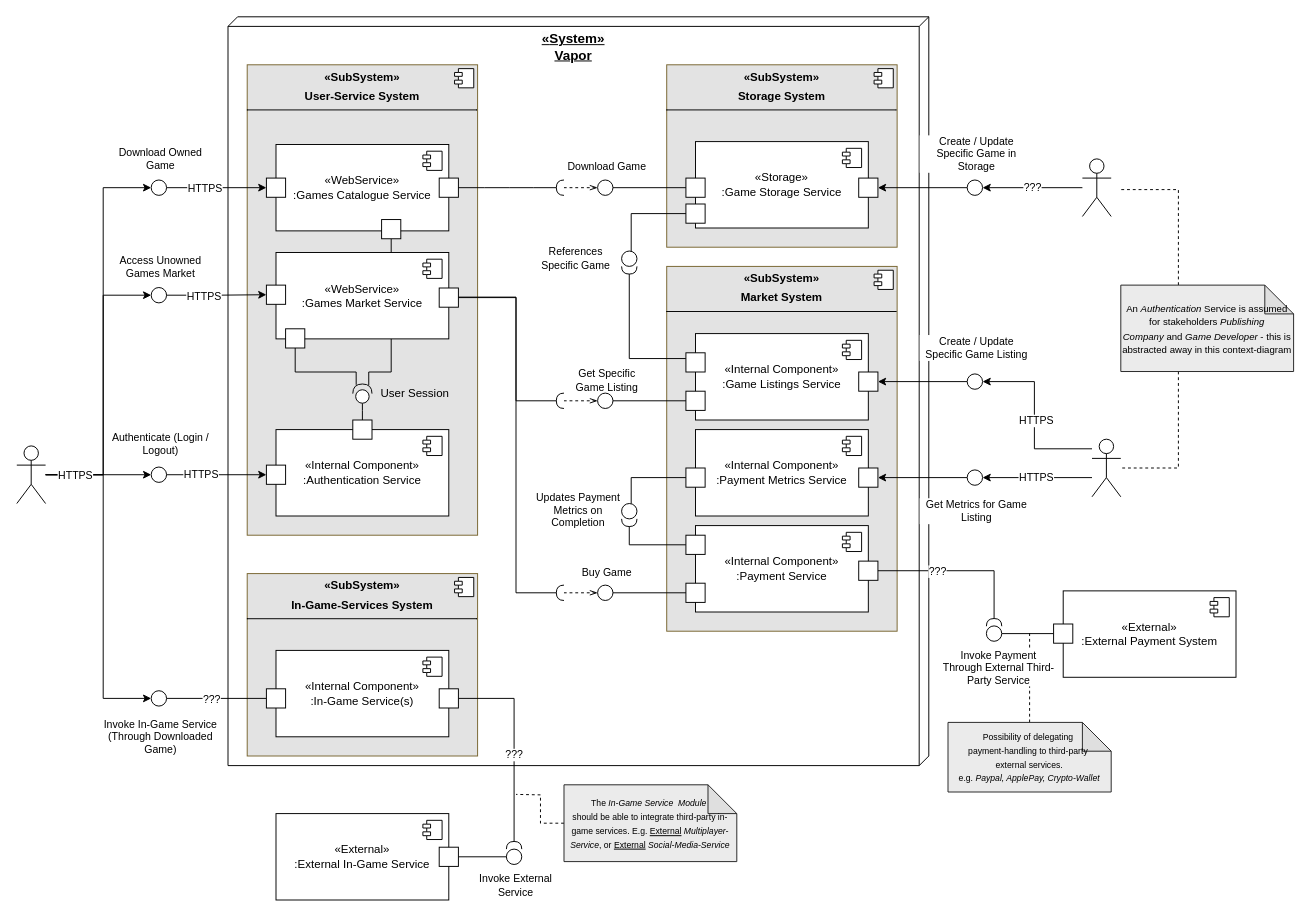
Image size: 1310x917. Some labels were removed from this diagram. Each missing label, with the centre of its shape:
"Game Developer" belongs at point 1096,187.
"Publishing Company" belongs at point 1106,467.
"User" belongs at point 31,474.
